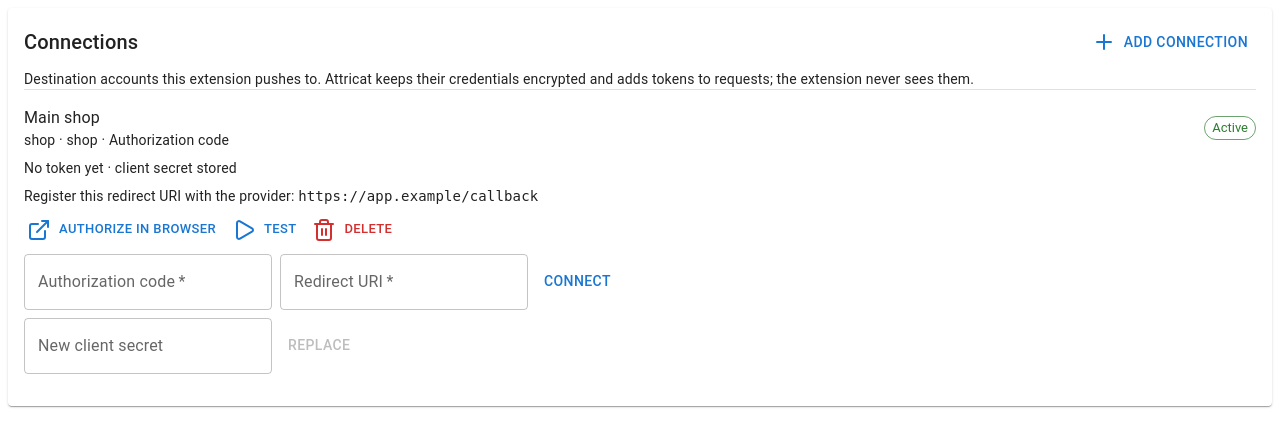
Test case: ExtensionConnectionsSection › disables the row while an authorization code is exchanged
The image size is (1280, 425).
Type "code" into the field labelled "Authorization code *" at (148, 282), box [24,254,272,310]
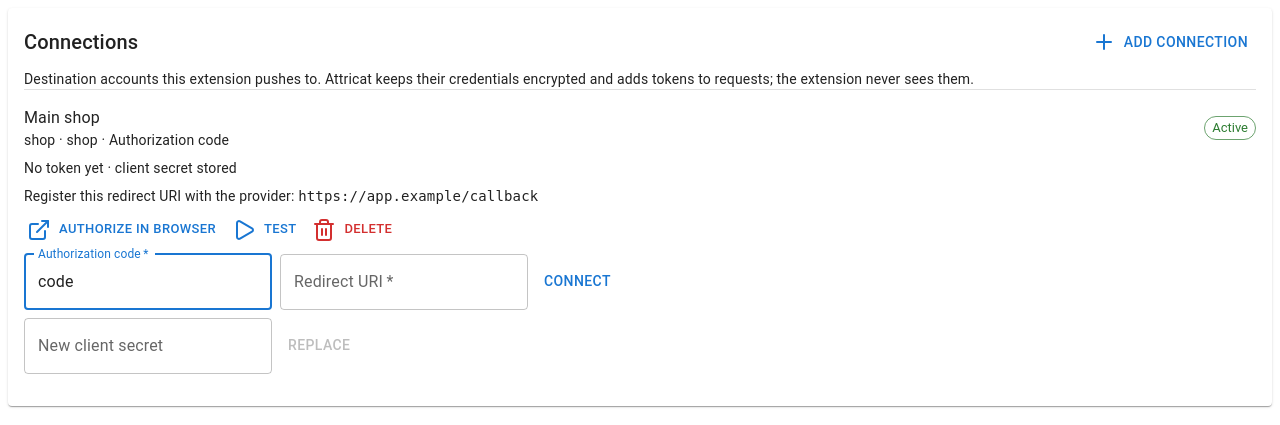
Type "https://app.example/callback" into the field labelled "Redirect URI *" at (404, 282), box [280,254,528,310]
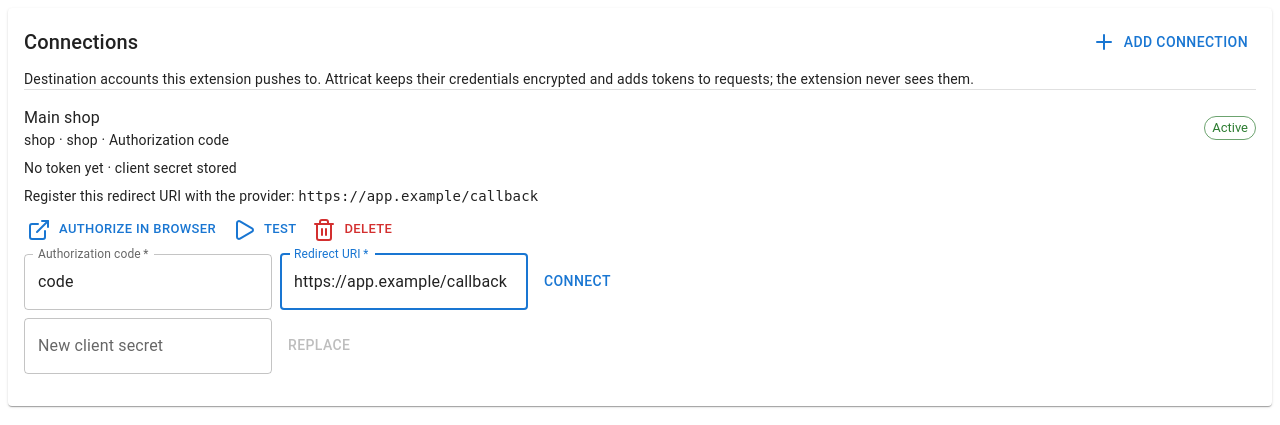
Click the button "Connect" at (577, 282), box [536,254,619,310]
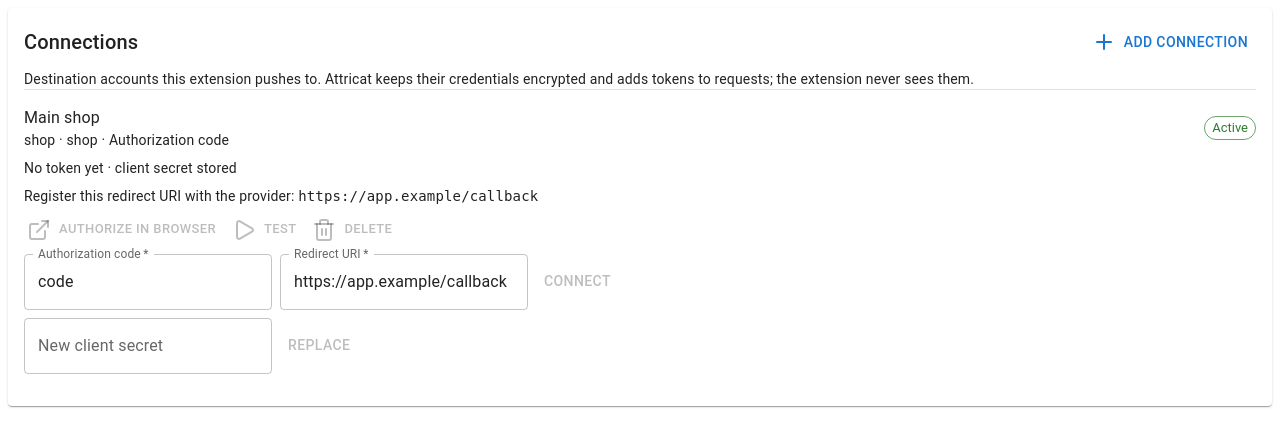
Expected: the button "Replace" is disabled, [280,318,358,374]
Now the button "Authorize in browser" is disabled, box [24,214,221,246]
